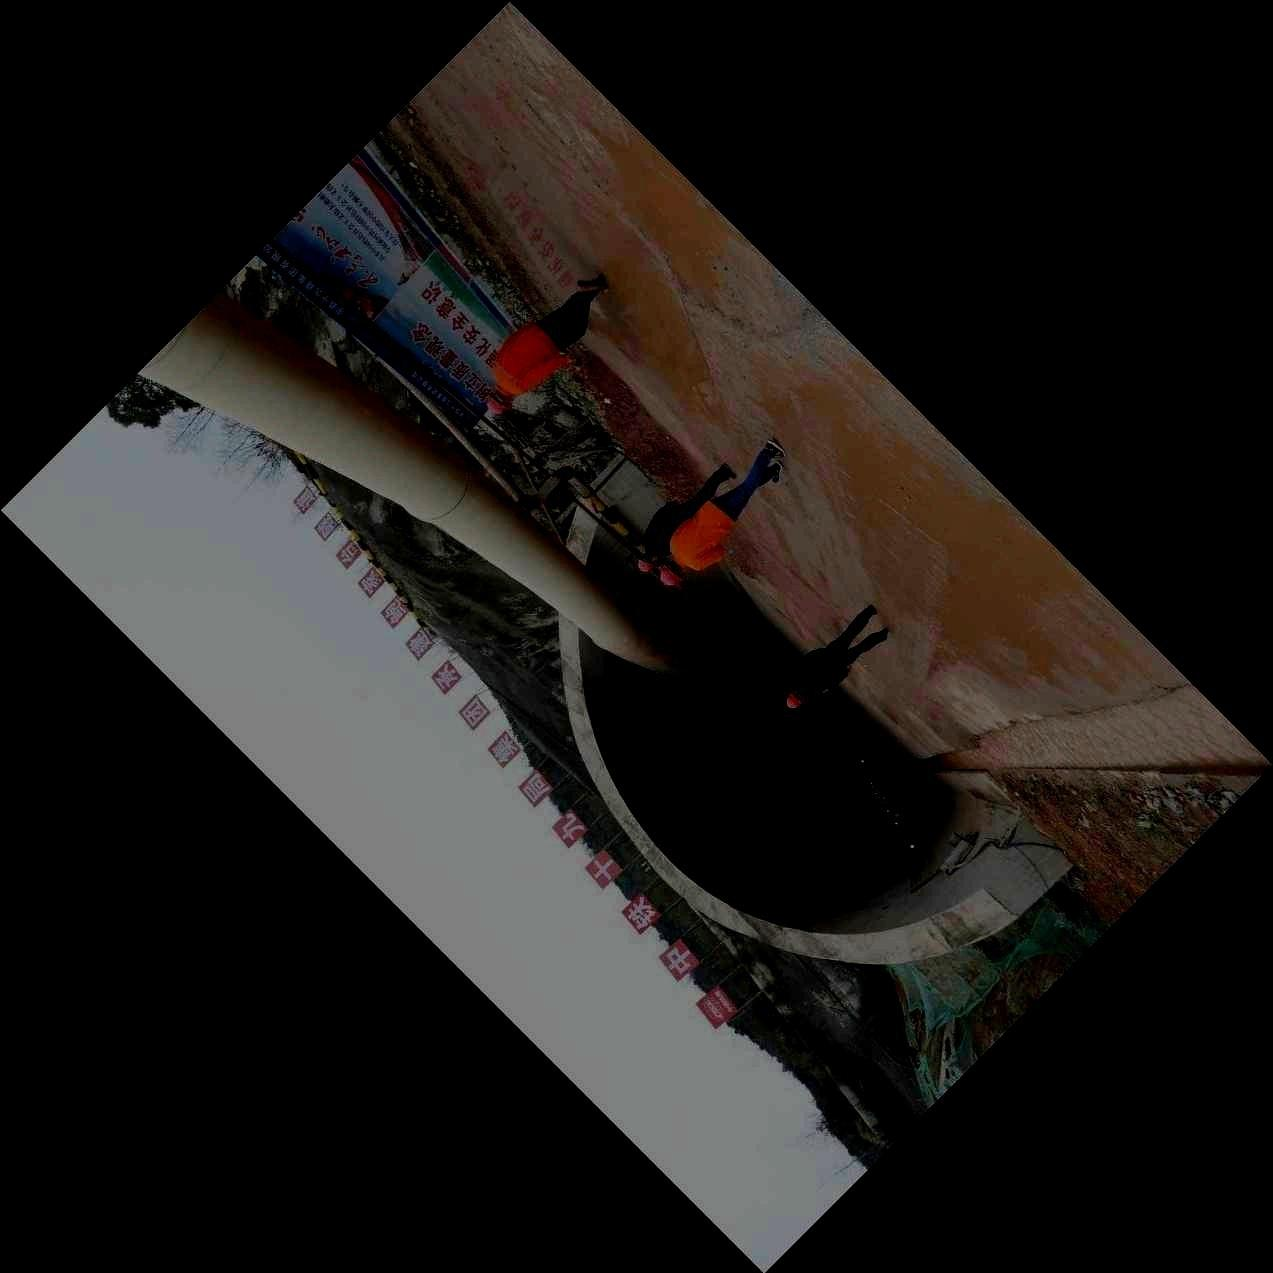helmet: (486, 385, 516, 415), (659, 560, 685, 586), (638, 553, 654, 574), (787, 692, 802, 709)
